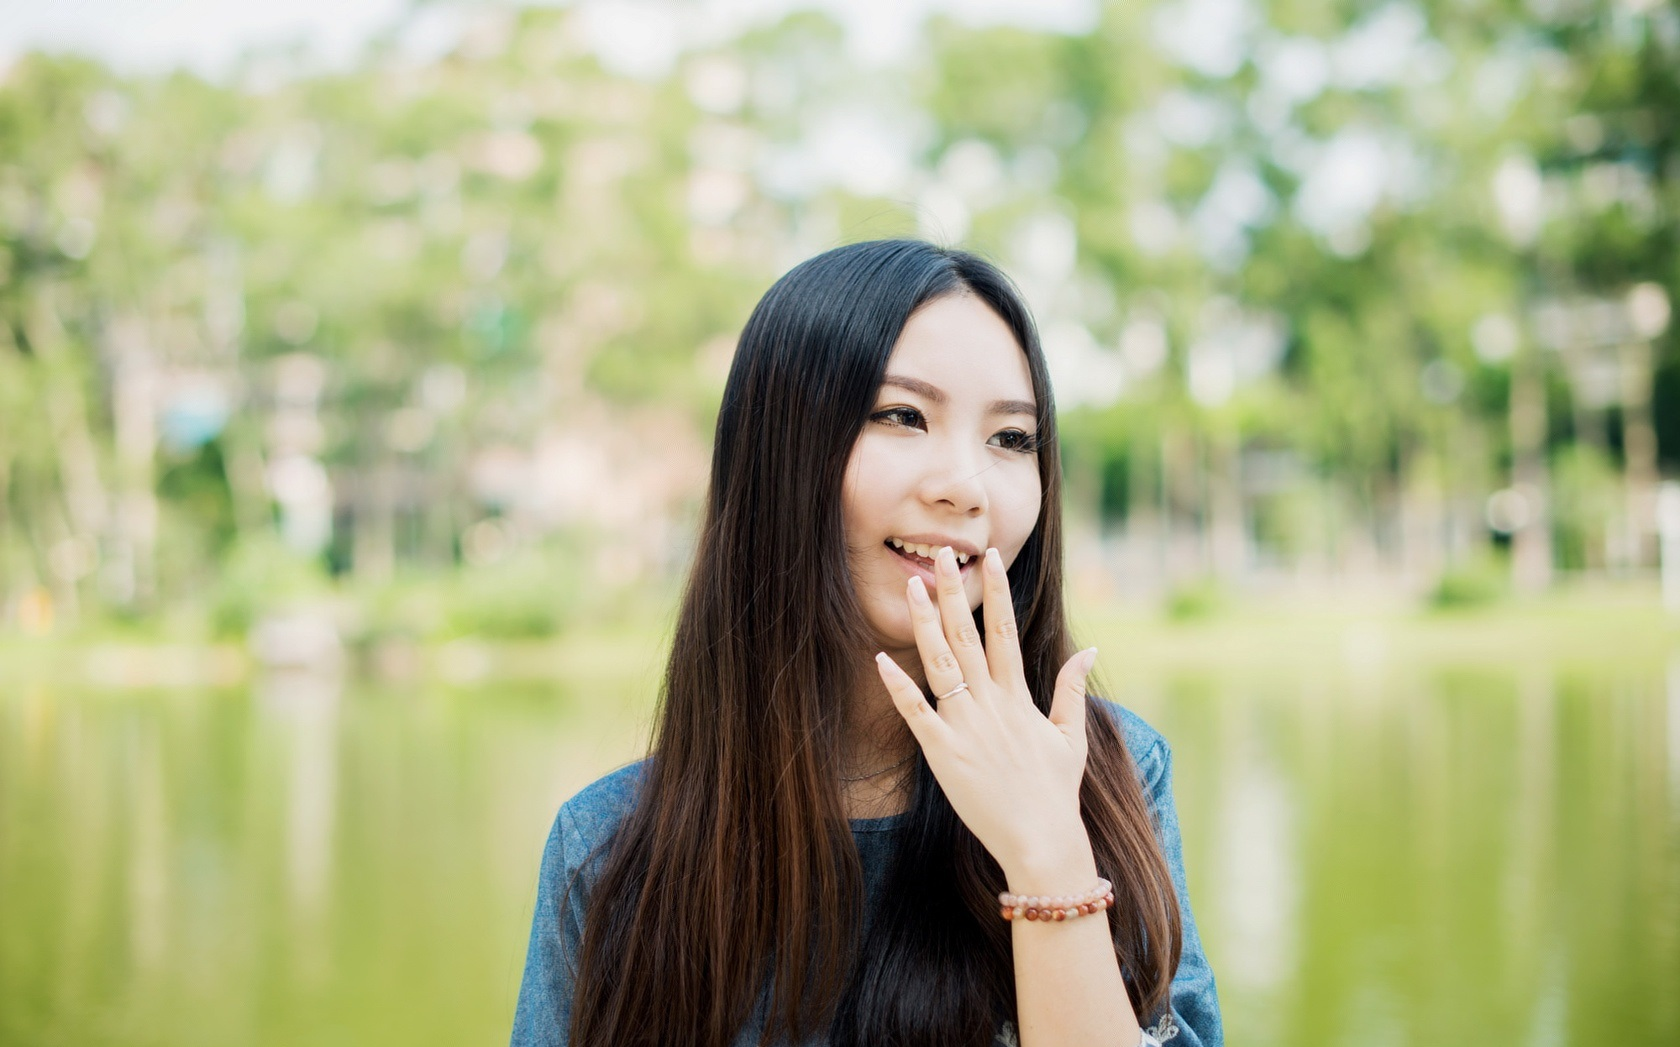face: (828, 289, 1047, 627)
